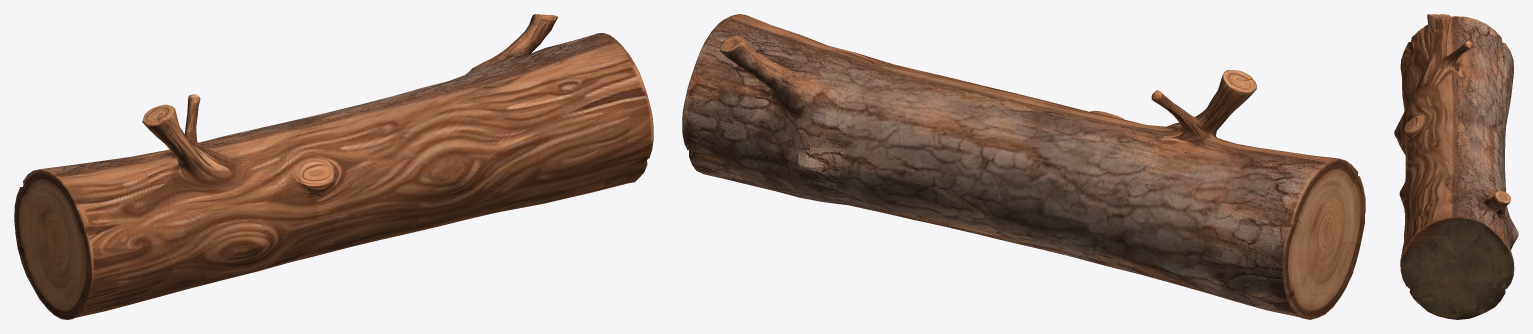
The model's file is log.glb.
3 views of the same model, side by side, from view 1: azimuth 30°, elevation 25°; view 2: azimuth 150°, elevation 25°; view 3: azimuth 270°, elevation 25° (orthographic). The views are drawn at different scales.
Bounding box in the file's own units: 1 × 0.3281 × 0.2627.
Materials: 1 (1 with a texture image).
